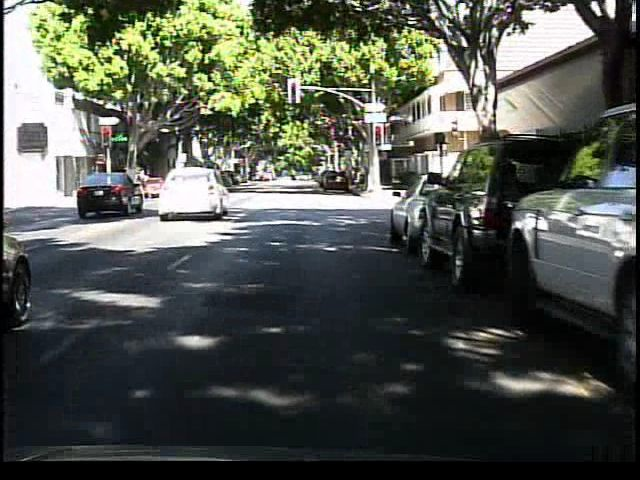person: (135, 161, 156, 196)
